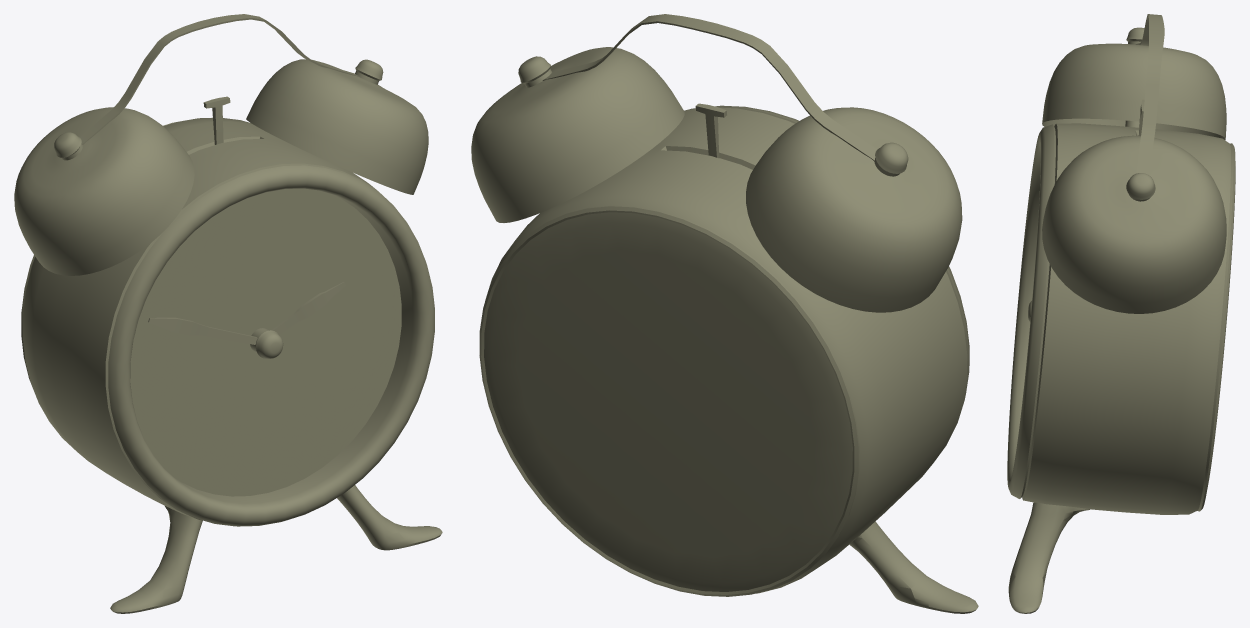
The picture shows the model from 3 angles, left to right: view 1: azimuth 30°, elevation 25°; view 2: azimuth 150°, elevation 25°; view 3: azimuth 270°, elevation 25°; orthographic projection. The views are drawn at different scales.
Visible parts, largest first — view 1: Mesh_Default_0; view 2: Mesh_Default_0; view 3: Mesh_Default_0.
Boxes of the visible parts, x1,y1,x2,y2 form: Mesh_Default_0: [14, 14, 442, 613]; Mesh_Default_0: [471, 14, 978, 613]; Mesh_Default_0: [1007, 14, 1235, 613].
Bounding box in the file's own units: 90.2 × 111 × 45.67.
